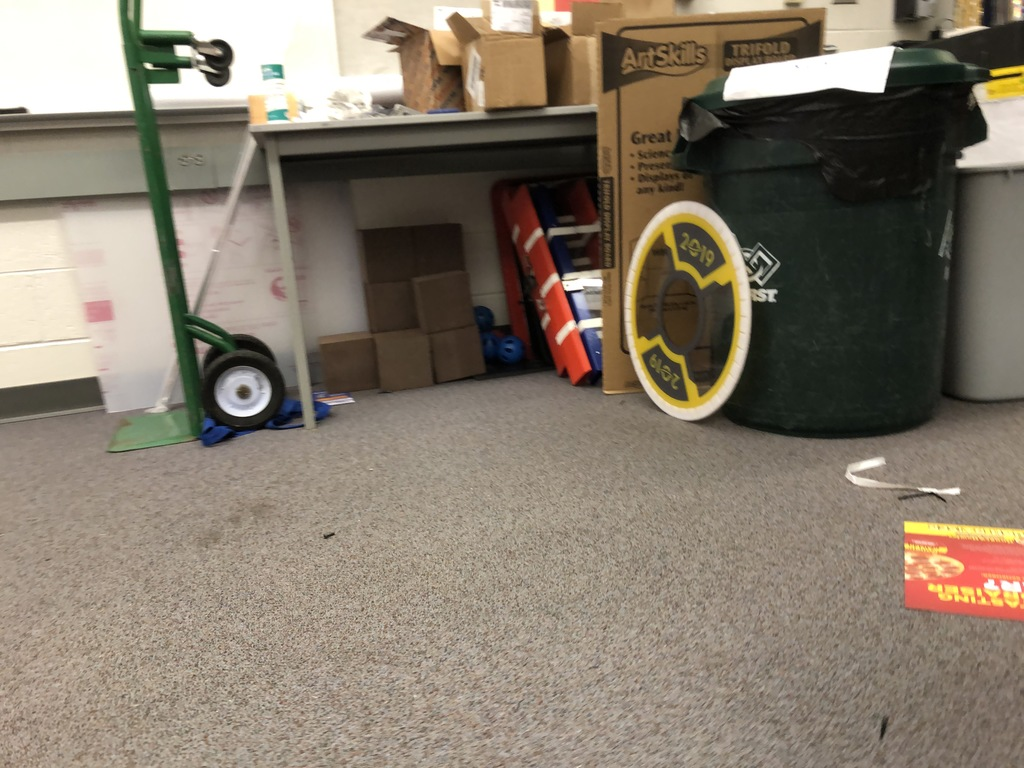hatch_panel: (622, 179, 760, 442)
